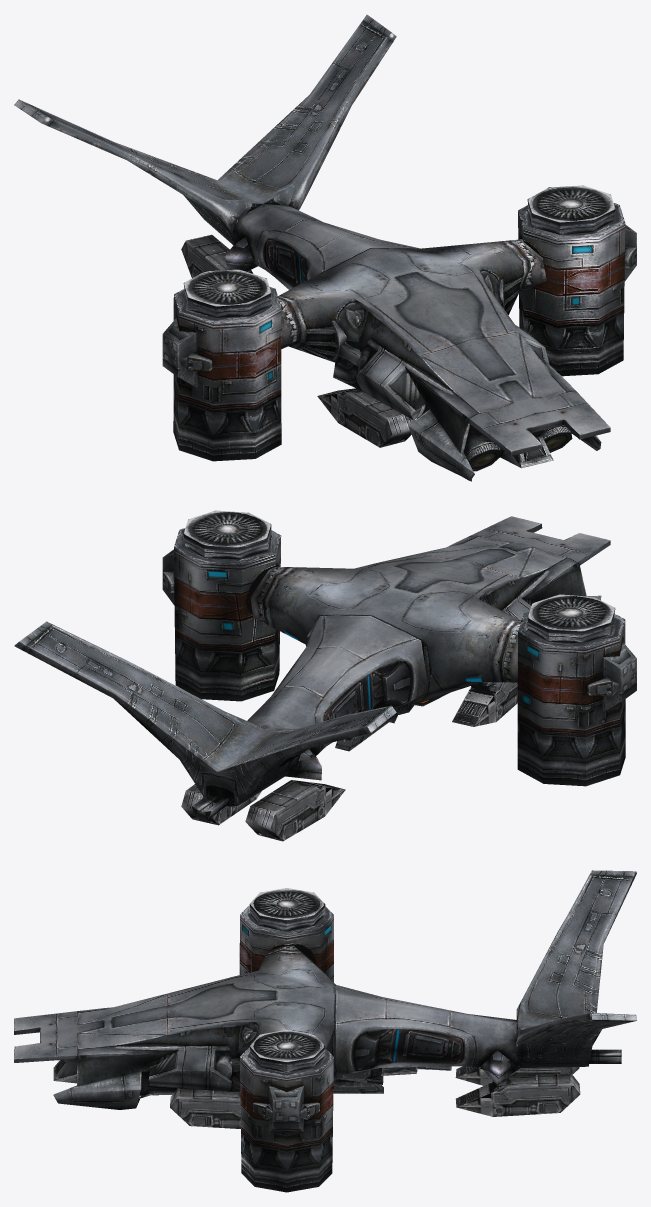
File: Prop_Plane01_lod1.glb
3 renders of one model, top to bottom at view 1: azimuth 30°, elevation 25°; view 2: azimuth 150°, elevation 25°; view 3: azimuth 270°, elevation 25°, orthographic. The views are drawn at different scales.
Parts seen in each view (by area): view 1: pvp_legionwar_plane01_lod1; view 2: pvp_legionwar_plane01_lod1; view 3: pvp_legionwar_plane01_lod1.
Boxes of the visible parts, x1,y1,x2,y2 form: pvp_legionwar_plane01_lod1: [14, 14, 636, 481]; pvp_legionwar_plane01_lod1: [14, 510, 636, 841]; pvp_legionwar_plane01_lod1: [14, 870, 636, 1192].
Bounding box in the file's own units: 31.7 × 12.54 × 44.08.
Materials: 1 (1 with a texture image).
